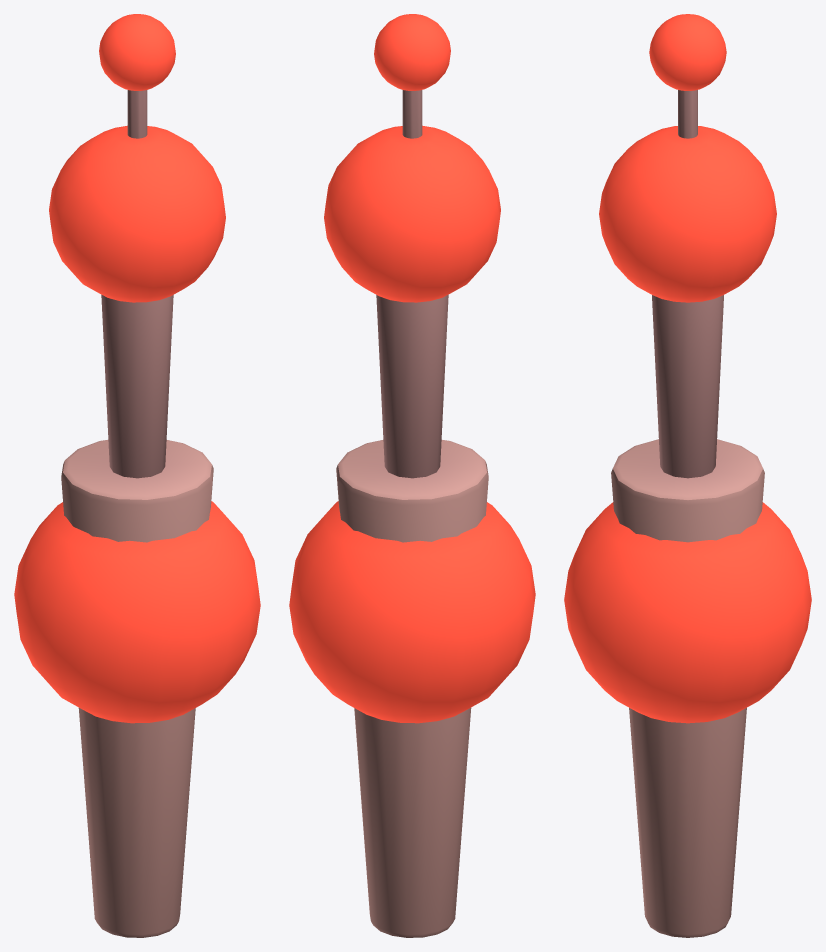
3 views of the same model, side by side, from view 1: azimuth 30°, elevation 25°; view 2: azimuth 150°, elevation 25°; view 3: azimuth 270°, elevation 25° (orthographic).
Visible parts, largest first — view 1: landmark_7f77cb8d; view 2: landmark_7f77cb8d; view 3: landmark_7f77cb8d.
Boxes of the visible parts, left/top/right/bottom form: landmark_7f77cb8d: left=14, top=14, right=260, bottom=937; landmark_7f77cb8d: left=289, top=14, right=535, bottom=937; landmark_7f77cb8d: left=564, top=14, right=811, bottom=937.
Size of the model in its own units: 3.2 by 12.9 by 3.2.
